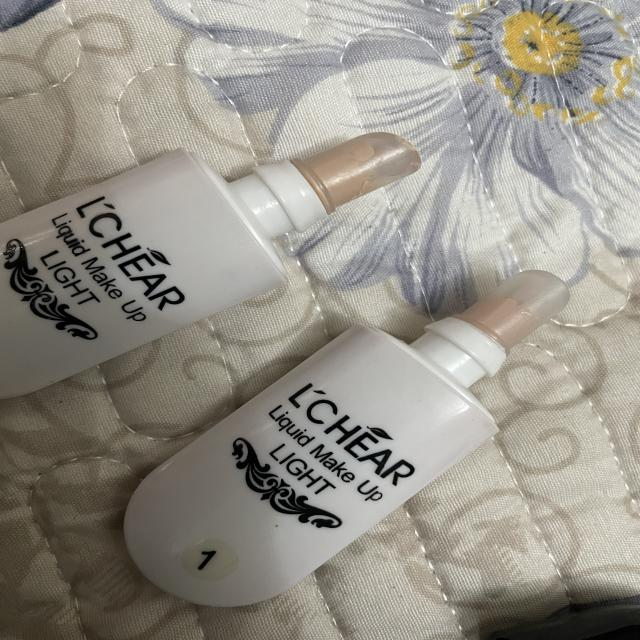concealer: (125, 244, 598, 616), (0, 112, 440, 294)
